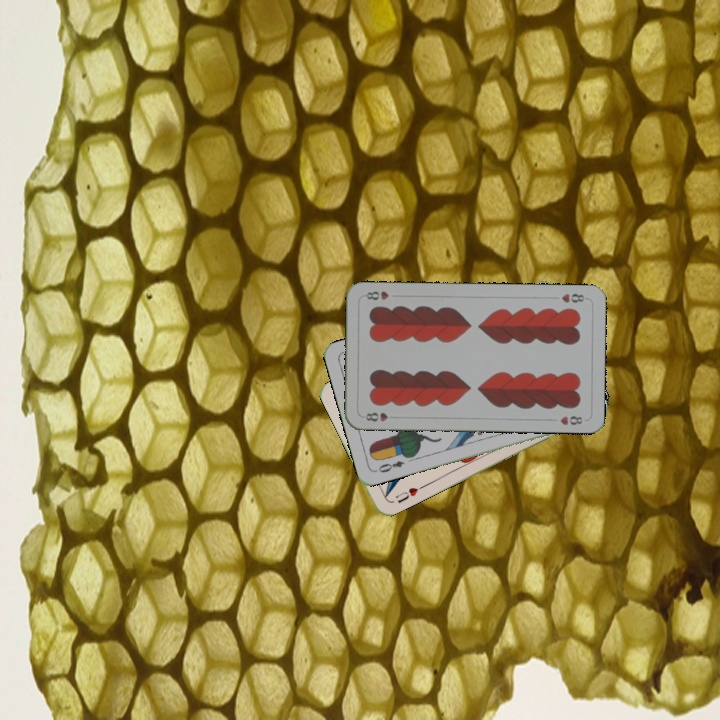EO: (371, 457, 407, 475)
H8: (359, 408, 399, 424), (558, 290, 590, 305)
HU: (392, 483, 421, 506)
